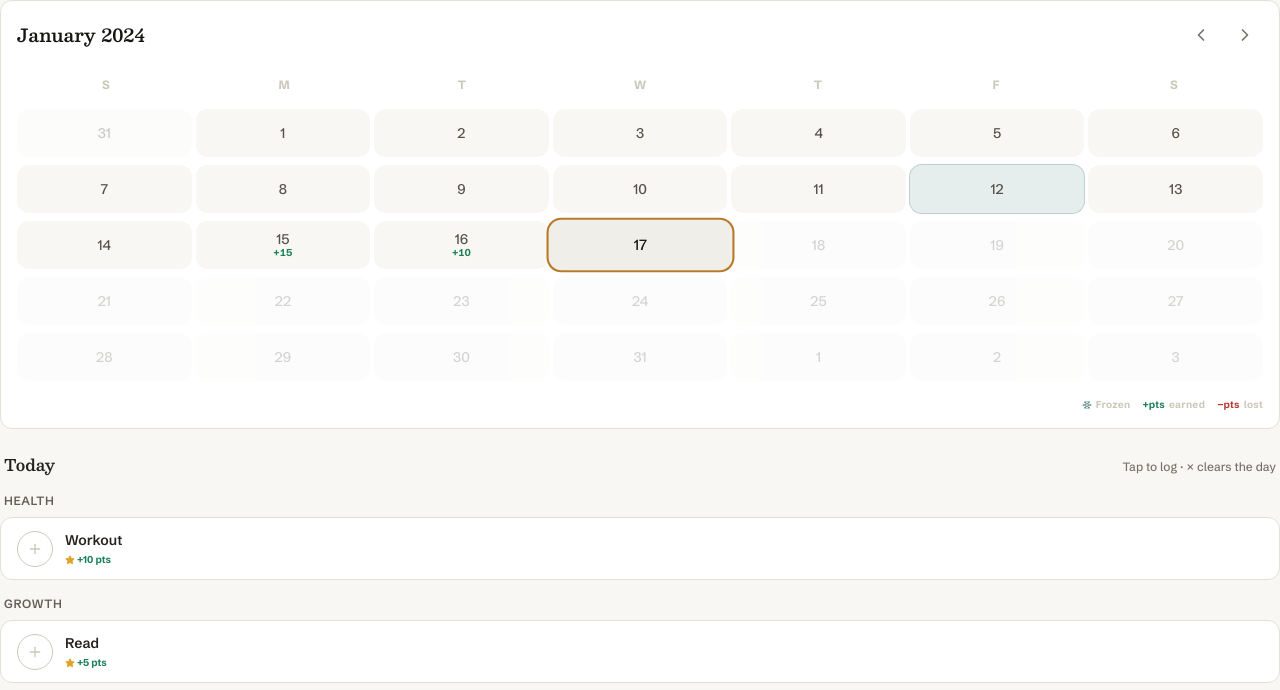
Test: HabitHistoryCalendar › frozen-day marker (Plan 25) › marks a frozen day distinctly (habit-blue, no points figure) and labels it
# Selecting it shows the freeze note (streak kept, zero points).
Click the button named "Jan 12: 0 points, streak protected by a freeze".
click(997, 189)  # box [910, 165, 1084, 213]
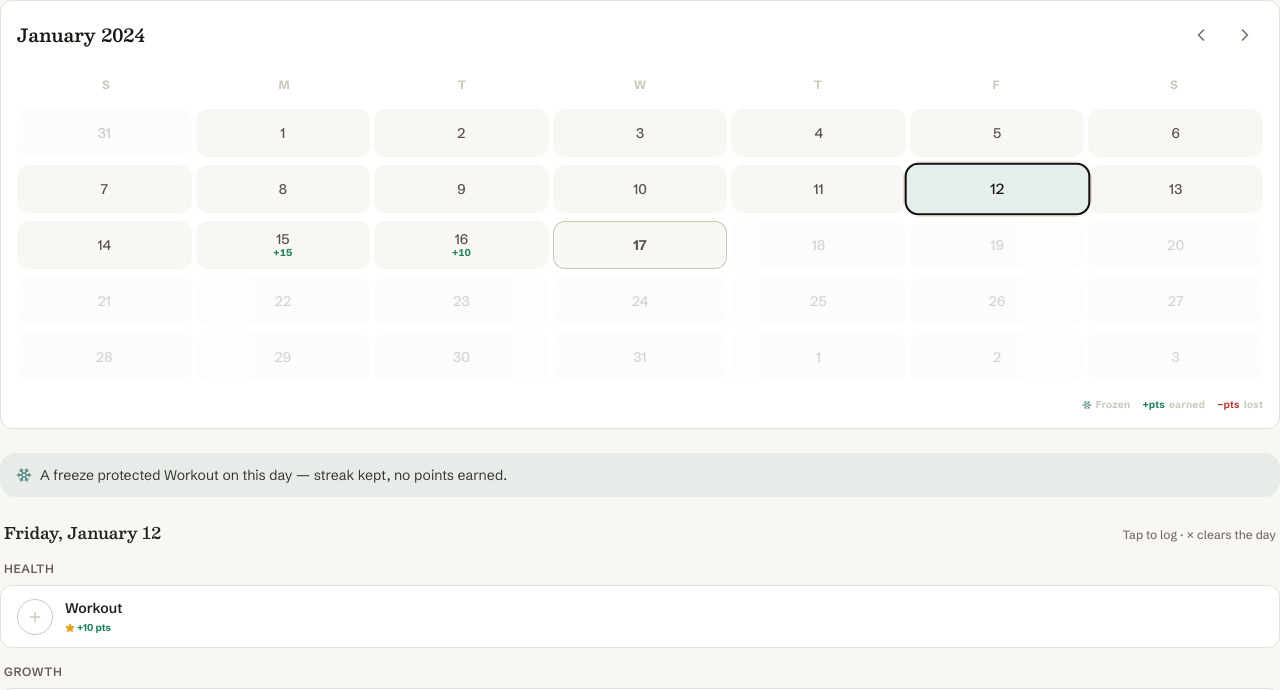
expect the text "A freeze protected" is shown: met, box [40, 466, 160, 484]
expect the text "streak kept, no points earned" is shown: met, box [219, 466, 507, 484]
